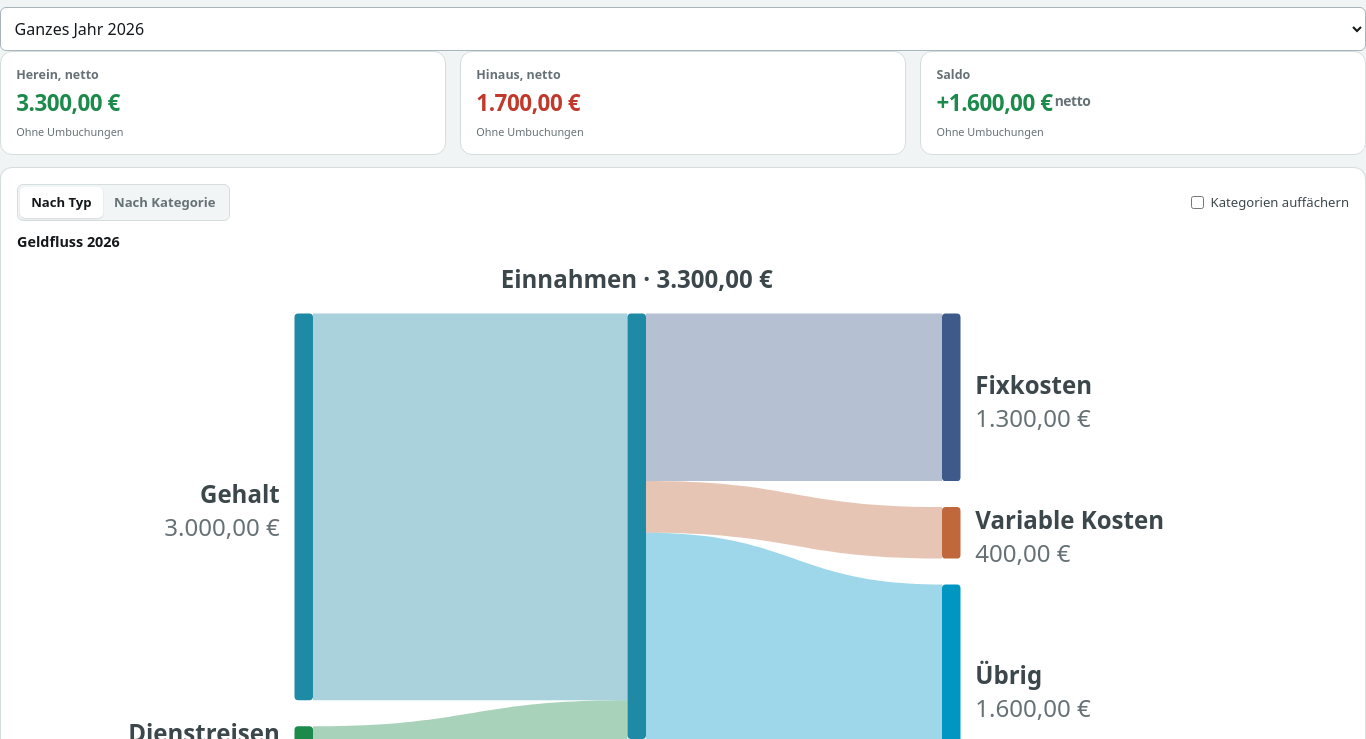
Scenario: the money flow › puts a reimbursed category on the inflow side for that month
Expected: the text "Geldfluss 2026" is shown, [17,232,120,251]
Select "Februar" in the dropdown labelled "Zeitraum" at (683, 29), box [0,7,1365,51]
(page scrolled)
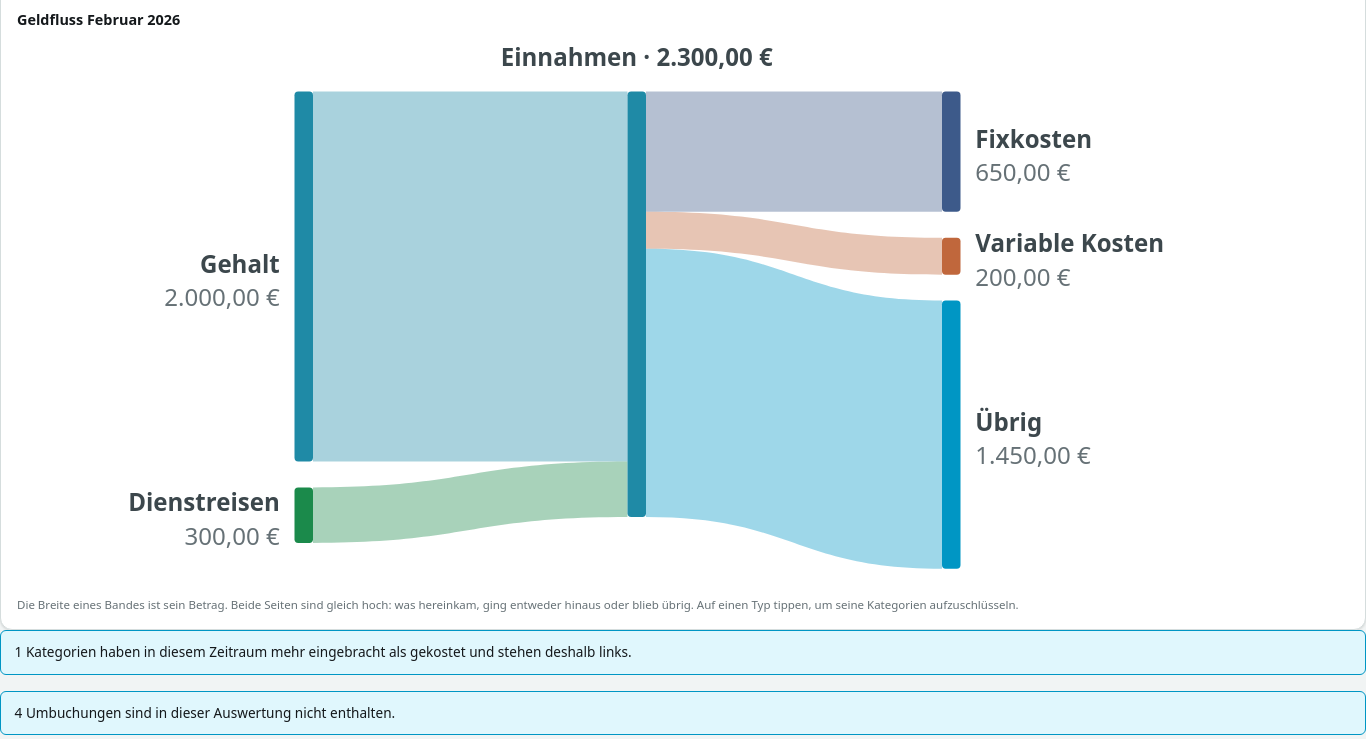
Expected: the text "mehr eingebracht als gekostet" is shown, [15,642,632,661]
Expected: the text "Geldfluss Februar 2026" is shown, [17,10,180,29]
